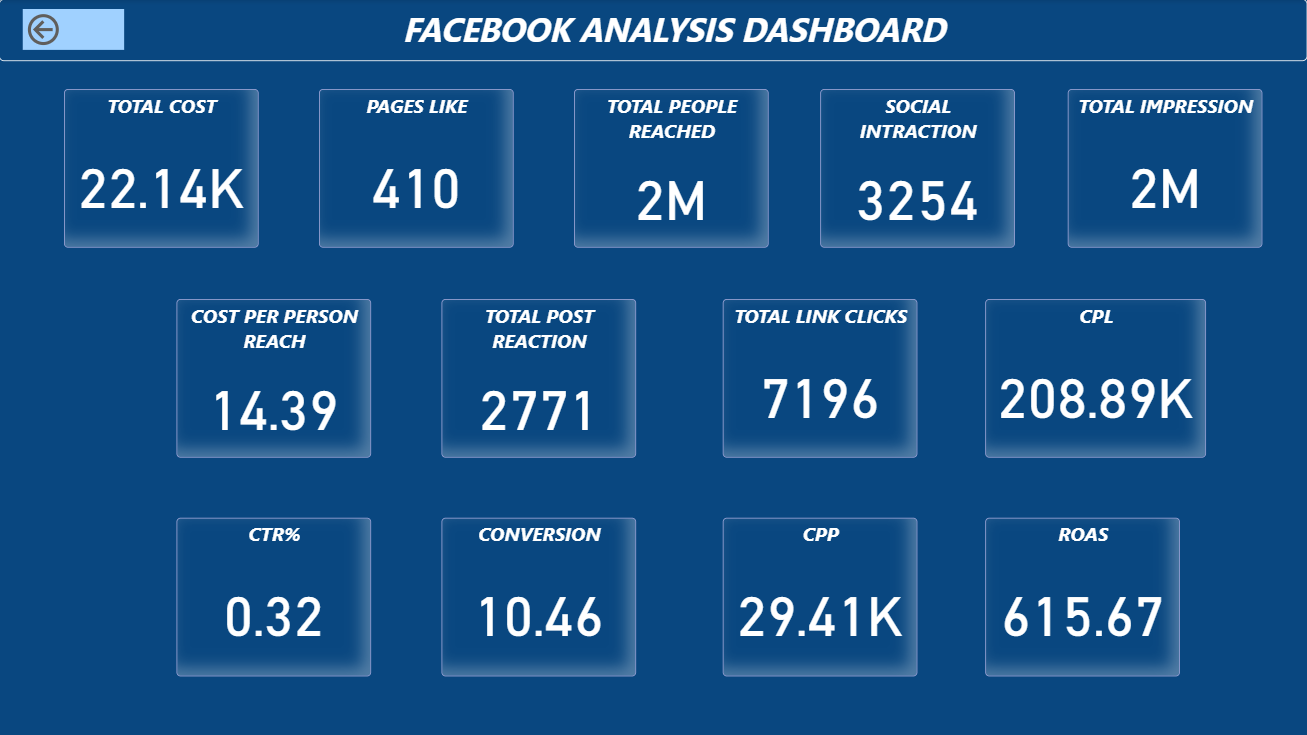

What the dashboard file says about the page in this screenshot:
{"tool":"powerbi","page":{"name":"DASHBOARD","canvas":[1280,720],"ordinal":1},"visuals":[{"type":"card","title":"TOTAL COST","fields":{"Values":["Sum(Facebook.Cost)"]},"box":[63.4,87.8,190.1,155.5],"z":0},{"type":"textbox","box":[0,0,1280.2,60.5],"z":1000},{"type":"card","title":"PAGES LIKE","fields":{"Values":["Sum(Facebook.Page Likes)"]},"box":[312.5,87.8,190.1,155.5],"z":2000},{"type":"card","title":"TOTAL PEOPLE REACHED","fields":{"Values":["Sum(Facebook.Total People Reached)"]},"box":[563,87.8,190.1,155.5],"z":3000},{"type":"card","title":"SOCIAL INTRACTION","fields":{"Values":["Sum(Facebook.Total Social Interactions)"]},"box":[803.5,87.8,190.1,155.5],"z":4000},{"type":"card","title":"TOTAL POST REACTION","fields":{"Values":["Sum(Facebook.Total Post Reactions)"]},"box":[433.4,293.8,190.1,155.5],"z":5000},{"type":"card","title":"TOTAL IMPRESSION","fields":{"Values":["Sum(Facebook.Total Impressions (Expression))"]},"box":[1045.4,87.8,190.1,155.5],"z":6000},{"type":"card","title":"TOTAL LINK CLICKS","fields":{"Values":["Sum(Facebook.Total Link Clicks)"]},"box":[708.5,293.8,190.1,155.5],"z":7000},{"type":"card","title":"CTR%","fields":{"Values":["Facebook.CTR%"]},"box":[174.2,506.9,190.1,155.5],"z":8000},{"type":"card","title":"CONVERSION","fields":{"Values":["Facebook.Conversion"]},"box":[433.4,506.9,190.1,155.5],"z":9000},{"type":"card","title":"ROAS","fields":{"Values":["Facebook.ROAS"]},"box":[964.8,506.9,190.1,155.5],"z":10000},{"type":"card","title":"CPP","fields":{"Values":["Facebook.CPP"]},"box":[708.5,506.9,190.1,155.5],"z":11000},{"type":"card","title":"CPL","fields":{"Values":["Facebook.CPL"]},"box":[964.8,293.8,216,155.5],"z":12000},{"type":"card","title":"COST PER PERSON REACH","fields":{"Values":["Facebook.Cost per person reached"]},"box":[174.2,293.8,190.1,155.5],"z":13000},{"type":"actionButton","box":[23,10.1,99.4,40.3],"z":14000}]}

Visuals, with their boxes in screenshot pixels (x1, y1, x2, y2), scaled from the page's 1280x720 canvas onto the 1307x735 screenshot:
"TOTAL COST" card: (x1=65, y1=90, x2=259, y2=248)
textbox: (x1=0, y1=0, x2=1306, y2=62)
"PAGES LIKE" card: (x1=319, y1=90, x2=513, y2=248)
"TOTAL PEOPLE REACHED" card: (x1=575, y1=90, x2=769, y2=248)
"SOCIAL INTRACTION" card: (x1=820, y1=90, x2=1015, y2=248)
"TOTAL POST REACTION" card: (x1=443, y1=300, x2=637, y2=459)
"TOTAL IMPRESSION" card: (x1=1067, y1=90, x2=1262, y2=248)
"TOTAL LINK CLICKS" card: (x1=723, y1=300, x2=918, y2=459)
"CTR%" card: (x1=178, y1=517, x2=372, y2=676)
"CONVERSION" card: (x1=443, y1=517, x2=637, y2=676)
"ROAS" card: (x1=985, y1=517, x2=1179, y2=676)
"CPP" card: (x1=723, y1=517, x2=918, y2=676)
"CPL" card: (x1=985, y1=300, x2=1206, y2=459)
"COST PER PERSON REACH" card: (x1=178, y1=300, x2=372, y2=459)
actionButton: (x1=23, y1=10, x2=125, y2=51)
